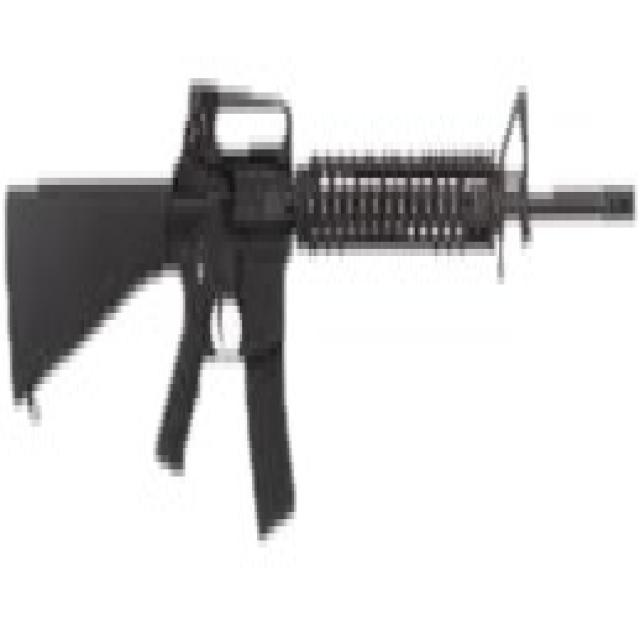rifle: (7, 67, 639, 553)
